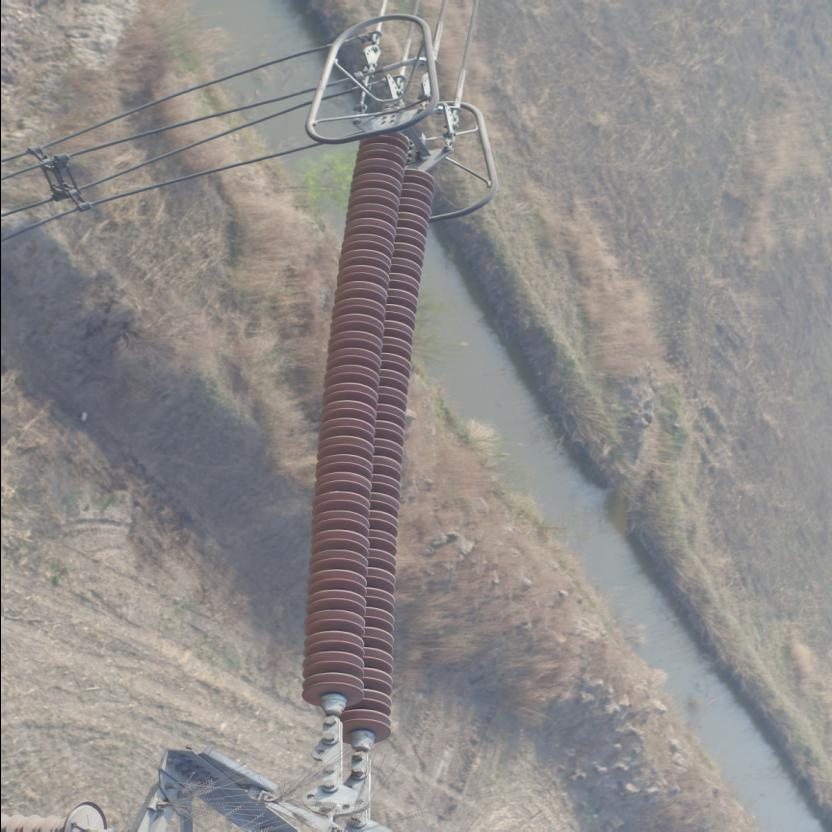insulator: (298, 119, 444, 771)
